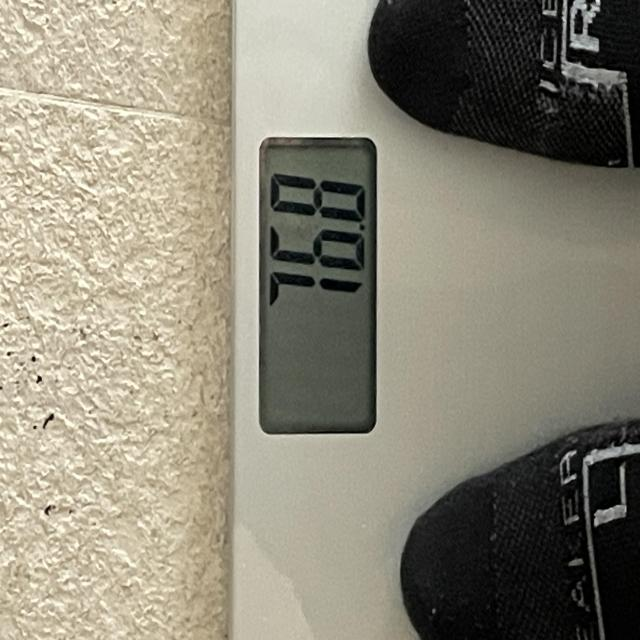ws: (227, 0, 640, 640)
